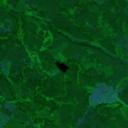alloviz: (53, 60, 69, 73)
